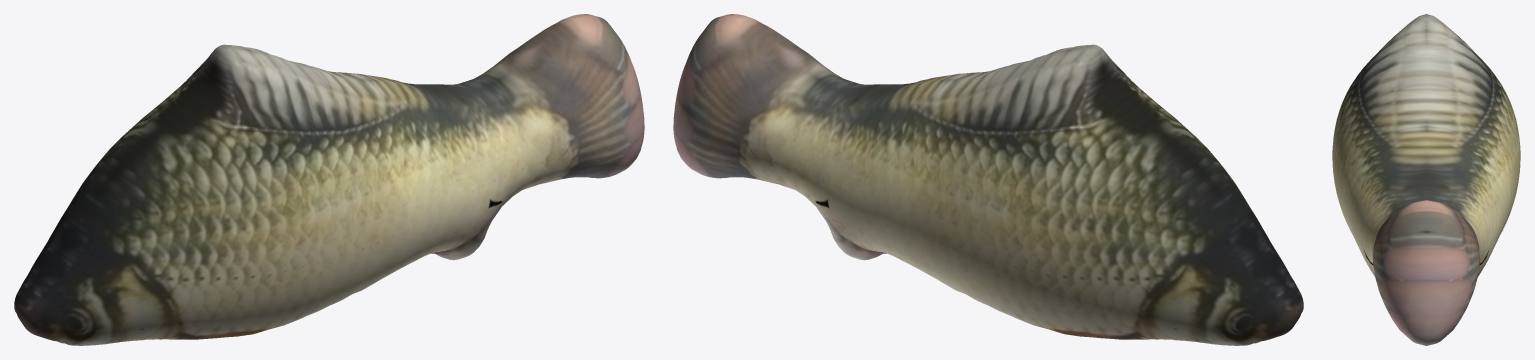
Rendered from carp1.glb.
3 renders of one model, left to right at view 1: azimuth 30°, elevation 25°; view 2: azimuth 150°, elevation 25°; view 3: azimuth 270°, elevation 25°, orthographic. The views are drawn at different scales.
Bounding box in the file's own units: 5.71 × 2.49 × 1.85.
Materials: 1 (1 with a texture image).
